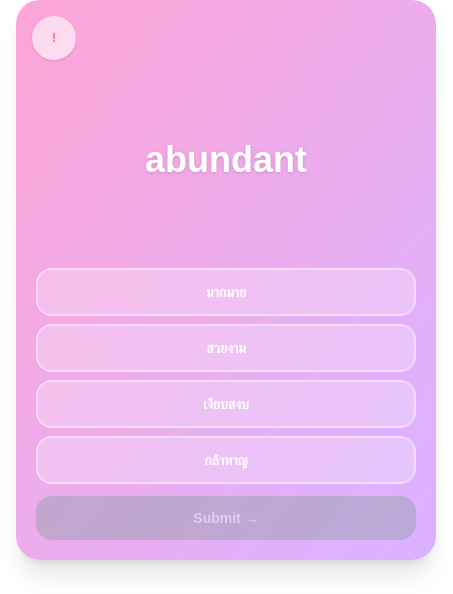
Test: MultipleChoiceCard — front face › Submit button becomes enabled after selecting a choice
Click the button "สวยงาม". click: (226, 348)
box: 36,324 -> 416,372
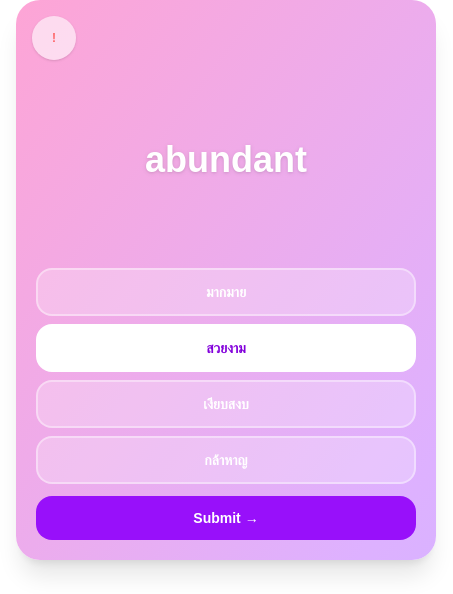
Expected: the button "Submit →" is enabled, 36,496 -> 416,540
